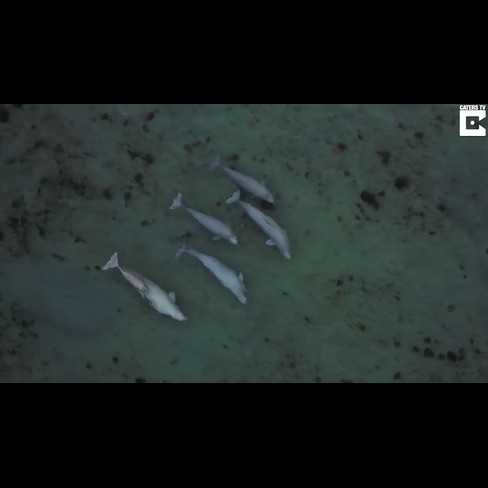beluga: (99, 249, 194, 326), (172, 236, 254, 312), (224, 185, 297, 266), (162, 186, 245, 256), (203, 150, 280, 207)
